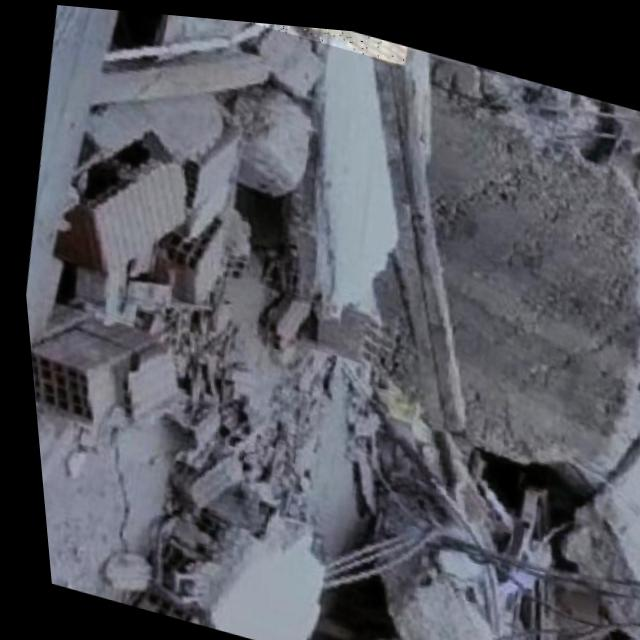Person in Rubble: (226, 16, 408, 58)
